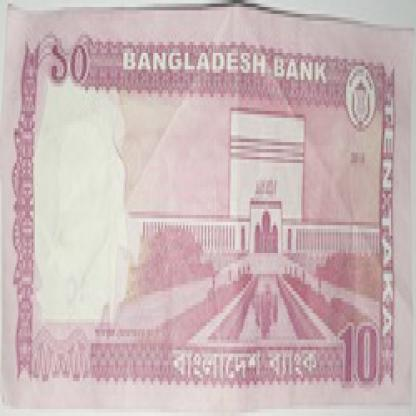Ten Taka: (324, 284, 388, 385), (38, 38, 110, 108), (20, 52, 93, 97)
